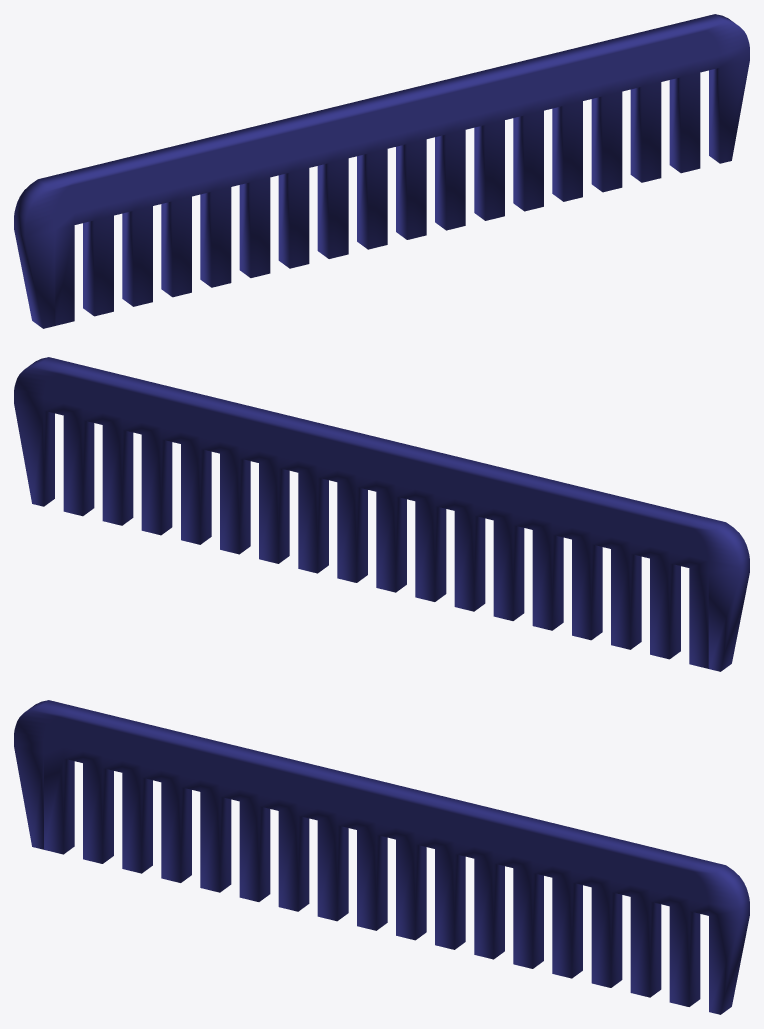
File: Peine3.fbx
The picture shows the model from 3 angles, top to bottom: view 1: azimuth 30°, elevation 25°; view 2: azimuth 150°, elevation 25°; view 3: azimuth 330°, elevation 25°; orthographic projection.
Visible parts, largest first — view 1: Cube.002; view 2: Cube.002; view 3: Cube.002.
Boxes of the visible parts, <box> form: Cube.002: <box>14,14,749,328</box>; Cube.002: <box>14,357,749,671</box>; Cube.002: <box>14,700,749,1014</box>.
Bounding box in the file's own units: 962 × 178 × 25.66.
